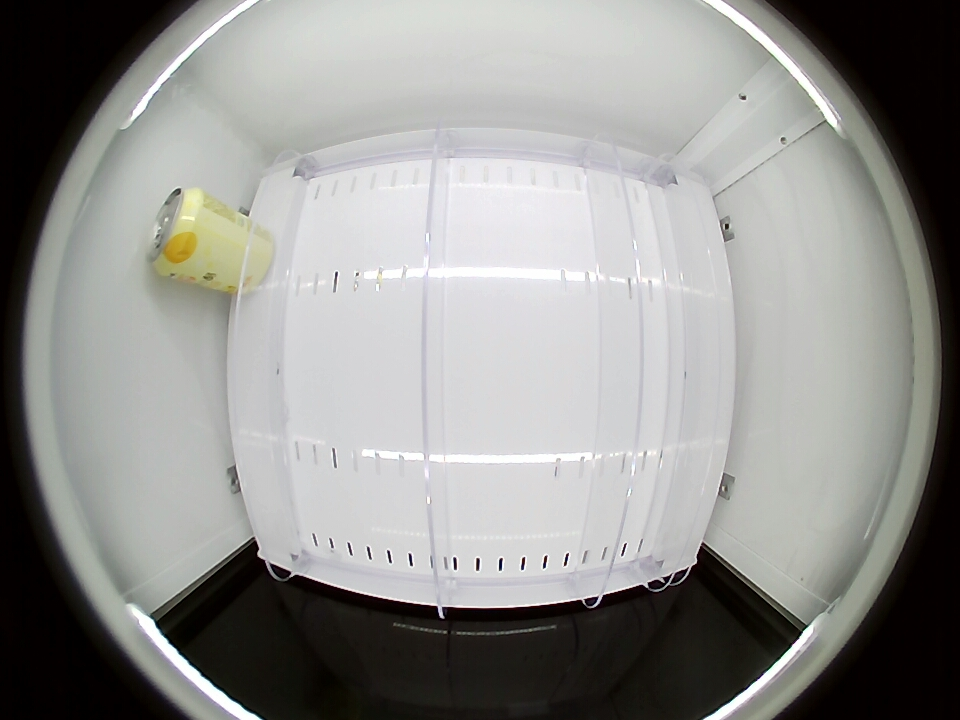mangguoxiaolao: (146, 187, 211, 279)
